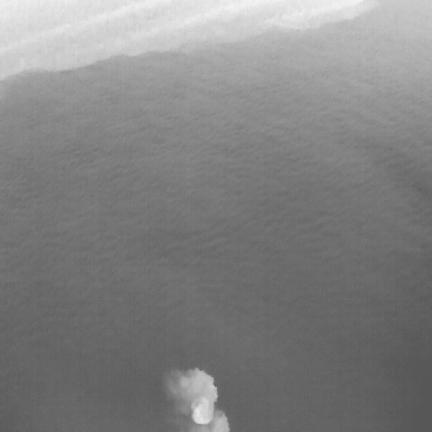flukeprints: (191, 397, 213, 424)
